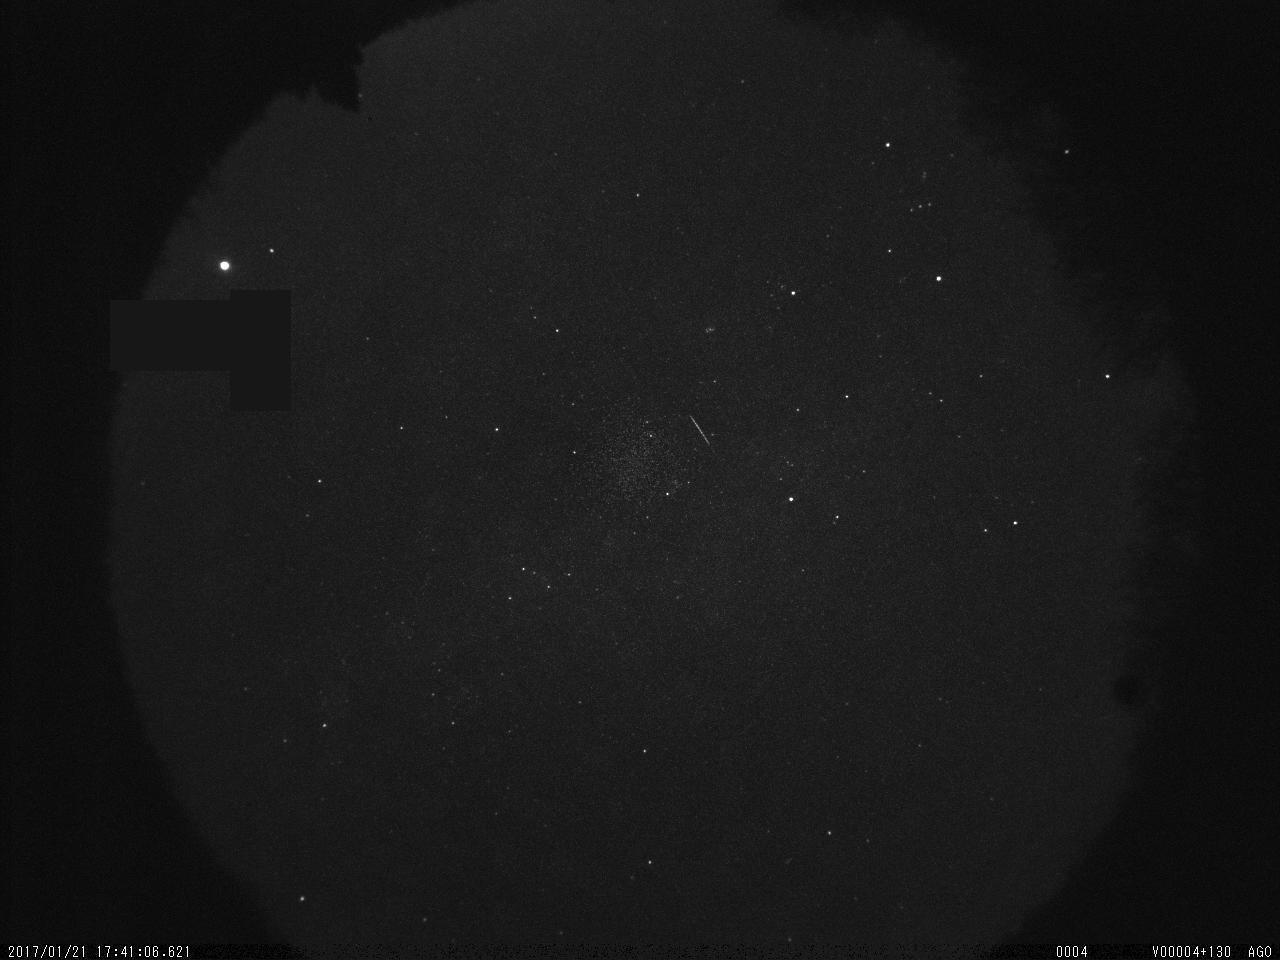Meteor: (682, 409, 722, 455)
